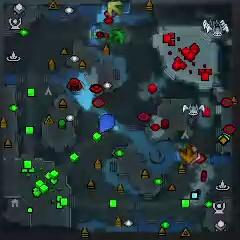p1: (98, 113, 116, 134)
x1: (189, 145, 201, 164)
x2: (107, 0, 123, 17)
x4: (109, 28, 125, 45)
x5: (179, 145, 197, 163)
